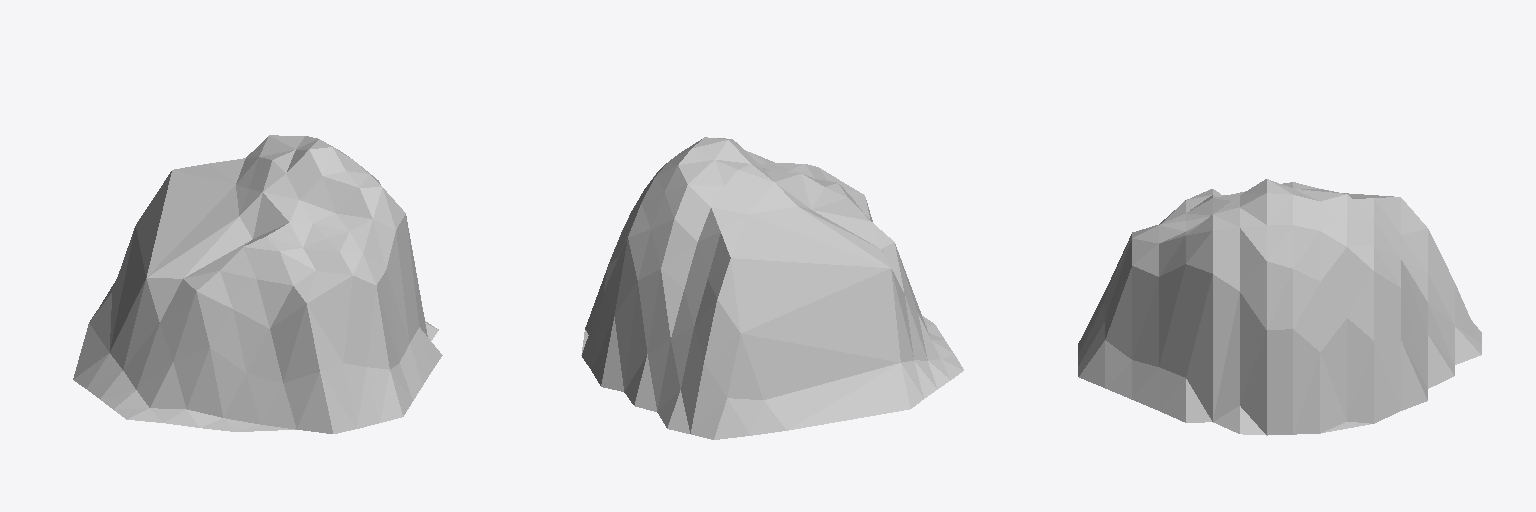
The model's file is tree_16.obj.
The picture shows the model from 3 angles: view 1: azimuth 30°, elevation 25°; view 2: azimuth 150°, elevation 25°; view 3: azimuth 270°, elevation 25°; orthographic projection.
Visible parts, largest first — view 1: tree_16_minus_dtm; view 2: tree_16_minus_dtm; view 3: tree_16_minus_dtm.
Part boxes in pixels (x1,y1,x2,y2): tree_16_minus_dtm: (73, 135, 442, 433); tree_16_minus_dtm: (581, 137, 963, 439); tree_16_minus_dtm: (1078, 179, 1481, 435).
Size of the model in its own units: 14 by 8.21 by 15.